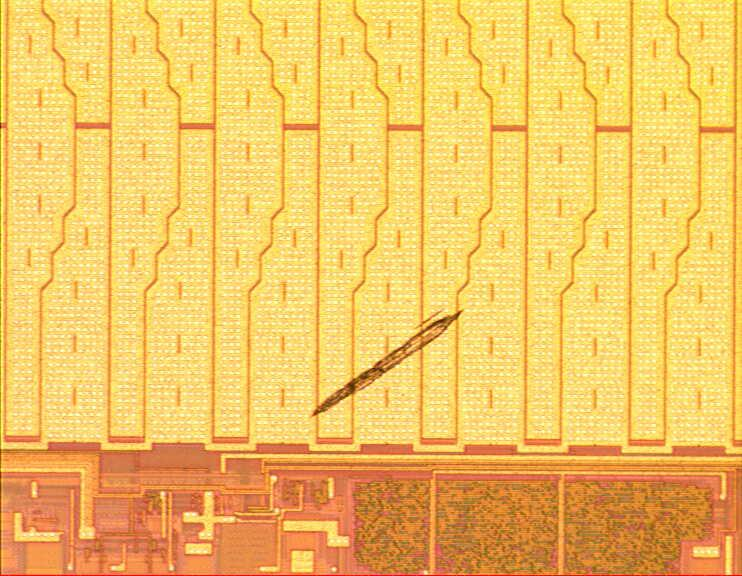SCRATCH: (297, 297, 472, 428)
